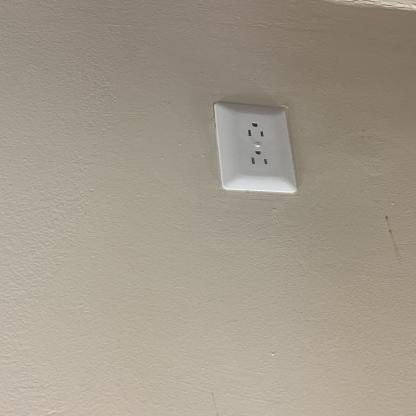OUTLET: (216, 105, 292, 191)
